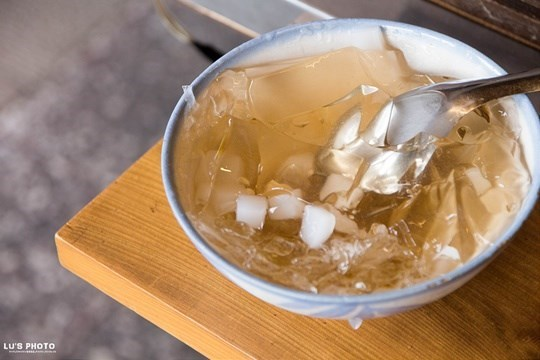O-eo: (165, 15, 540, 312)
